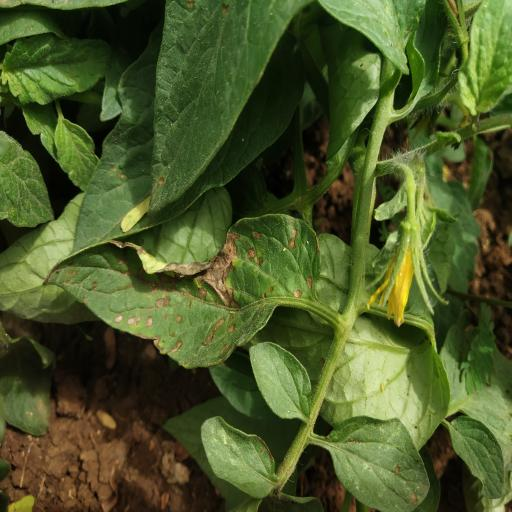Early Blight: (42, 213, 324, 368)
